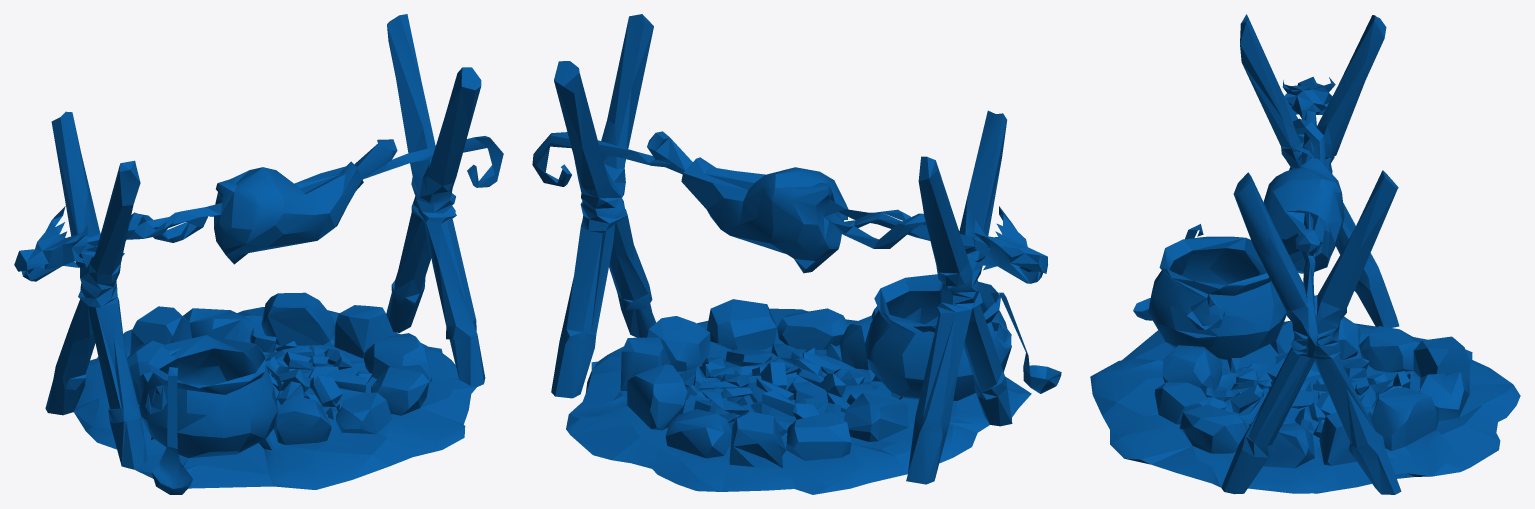
File: spit_roast.glb
3 renders of one model, left to right at view 1: azimuth 30°, elevation 25°; view 2: azimuth 150°, elevation 25°; view 3: azimuth 270°, elevation 25°, orthographic. The views are drawn at different scales.
Visible parts, largest first — view 1: spit_roast; view 2: spit_roast; view 3: spit_roast.
Boxes of the visible parts, x1,y1,x2,y2 form: spit_roast: (14, 14, 503, 494); spit_roast: (532, 14, 1061, 494); spit_roast: (1090, 14, 1520, 494).
Bounding box in the file's own units: 2.59 × 1.6 × 1.96.
1 material, 1 textured.
